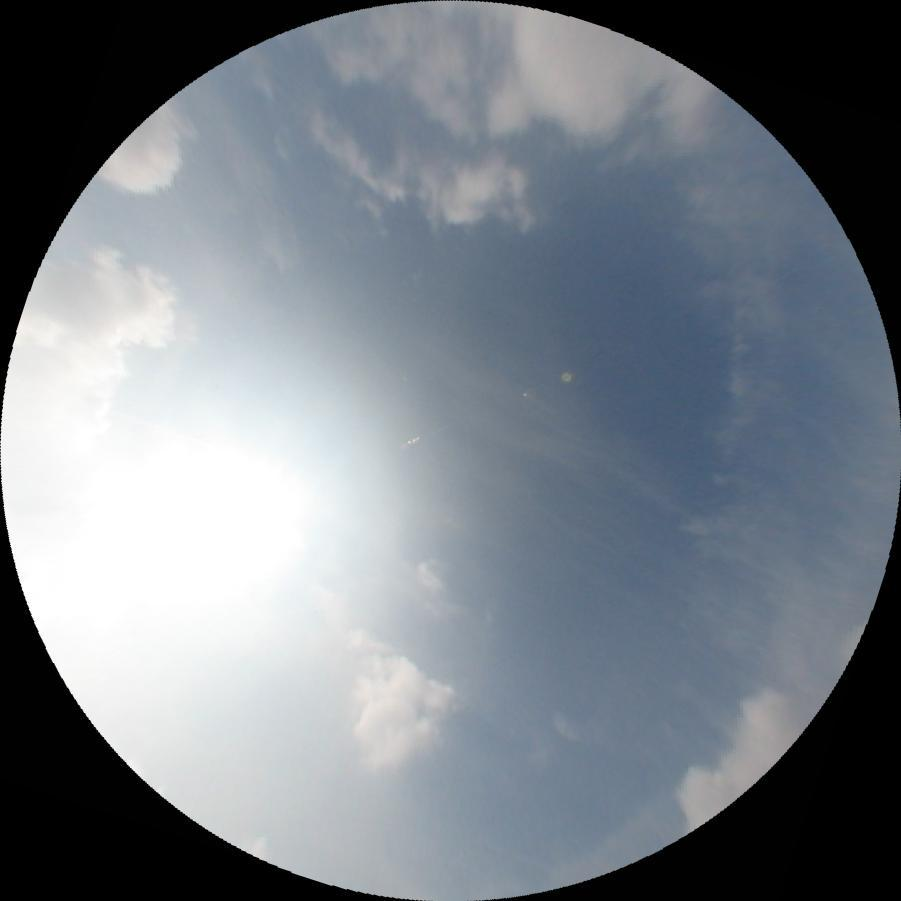sun: (86, 410, 327, 629)
